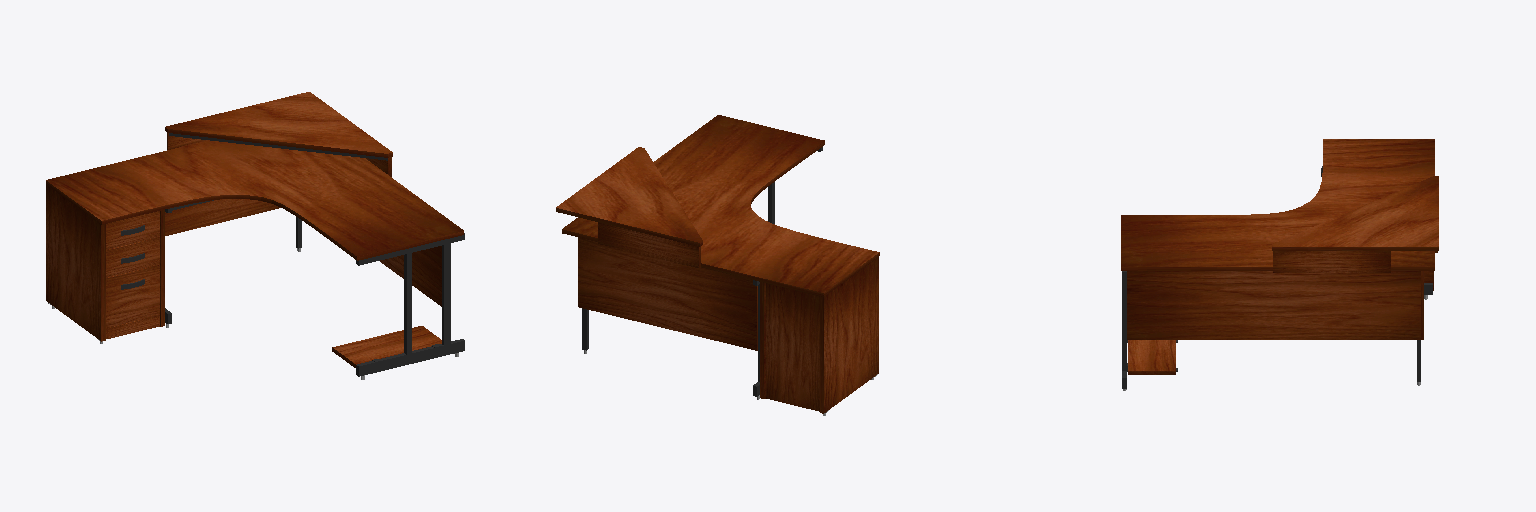
The picture shows the model from 3 angles: view 1: azimuth 30°, elevation 25°; view 2: azimuth 150°, elevation 25°; view 3: azimuth 270°, elevation 25°; orthographic projection.
Parts seen in each view (by area): view 1: Desk_Desk_Desk_wood, Desk_Desk_Desk_metal; view 2: Desk_Desk_Desk_wood, Desk_Desk_Desk_metal; view 3: Desk_Desk_Desk_wood, Desk_Desk_Desk_metal.
Part boxes in pixels (left/top/right/bottom): Desk_Desk_Desk_wood: left=46, top=92, right=463, bottom=367; Desk_Desk_Desk_metal: left=121, top=133, right=464, bottom=376; Desk_Desk_Desk_wood: left=556, top=115, right=879, bottom=413; Desk_Desk_Desk_metal: left=582, top=147, right=822, bottom=396; Desk_Desk_Desk_wood: left=1121, top=139, right=1438, bottom=374; Desk_Desk_Desk_metal: left=1122, top=166, right=1432, bottom=388.
Bounding box in the file's own units: 3.88 × 2.06 × 4.01.
Materials: 3 (2 with a texture image).